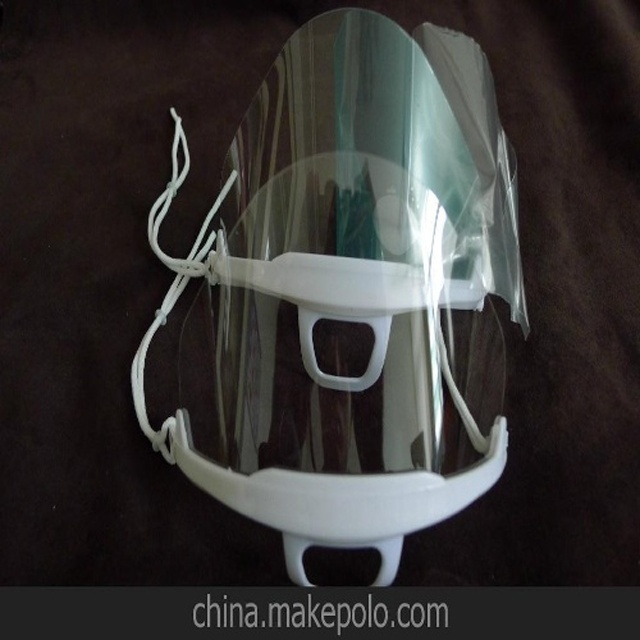mask: (164, 154, 513, 533), (211, 4, 501, 316)
